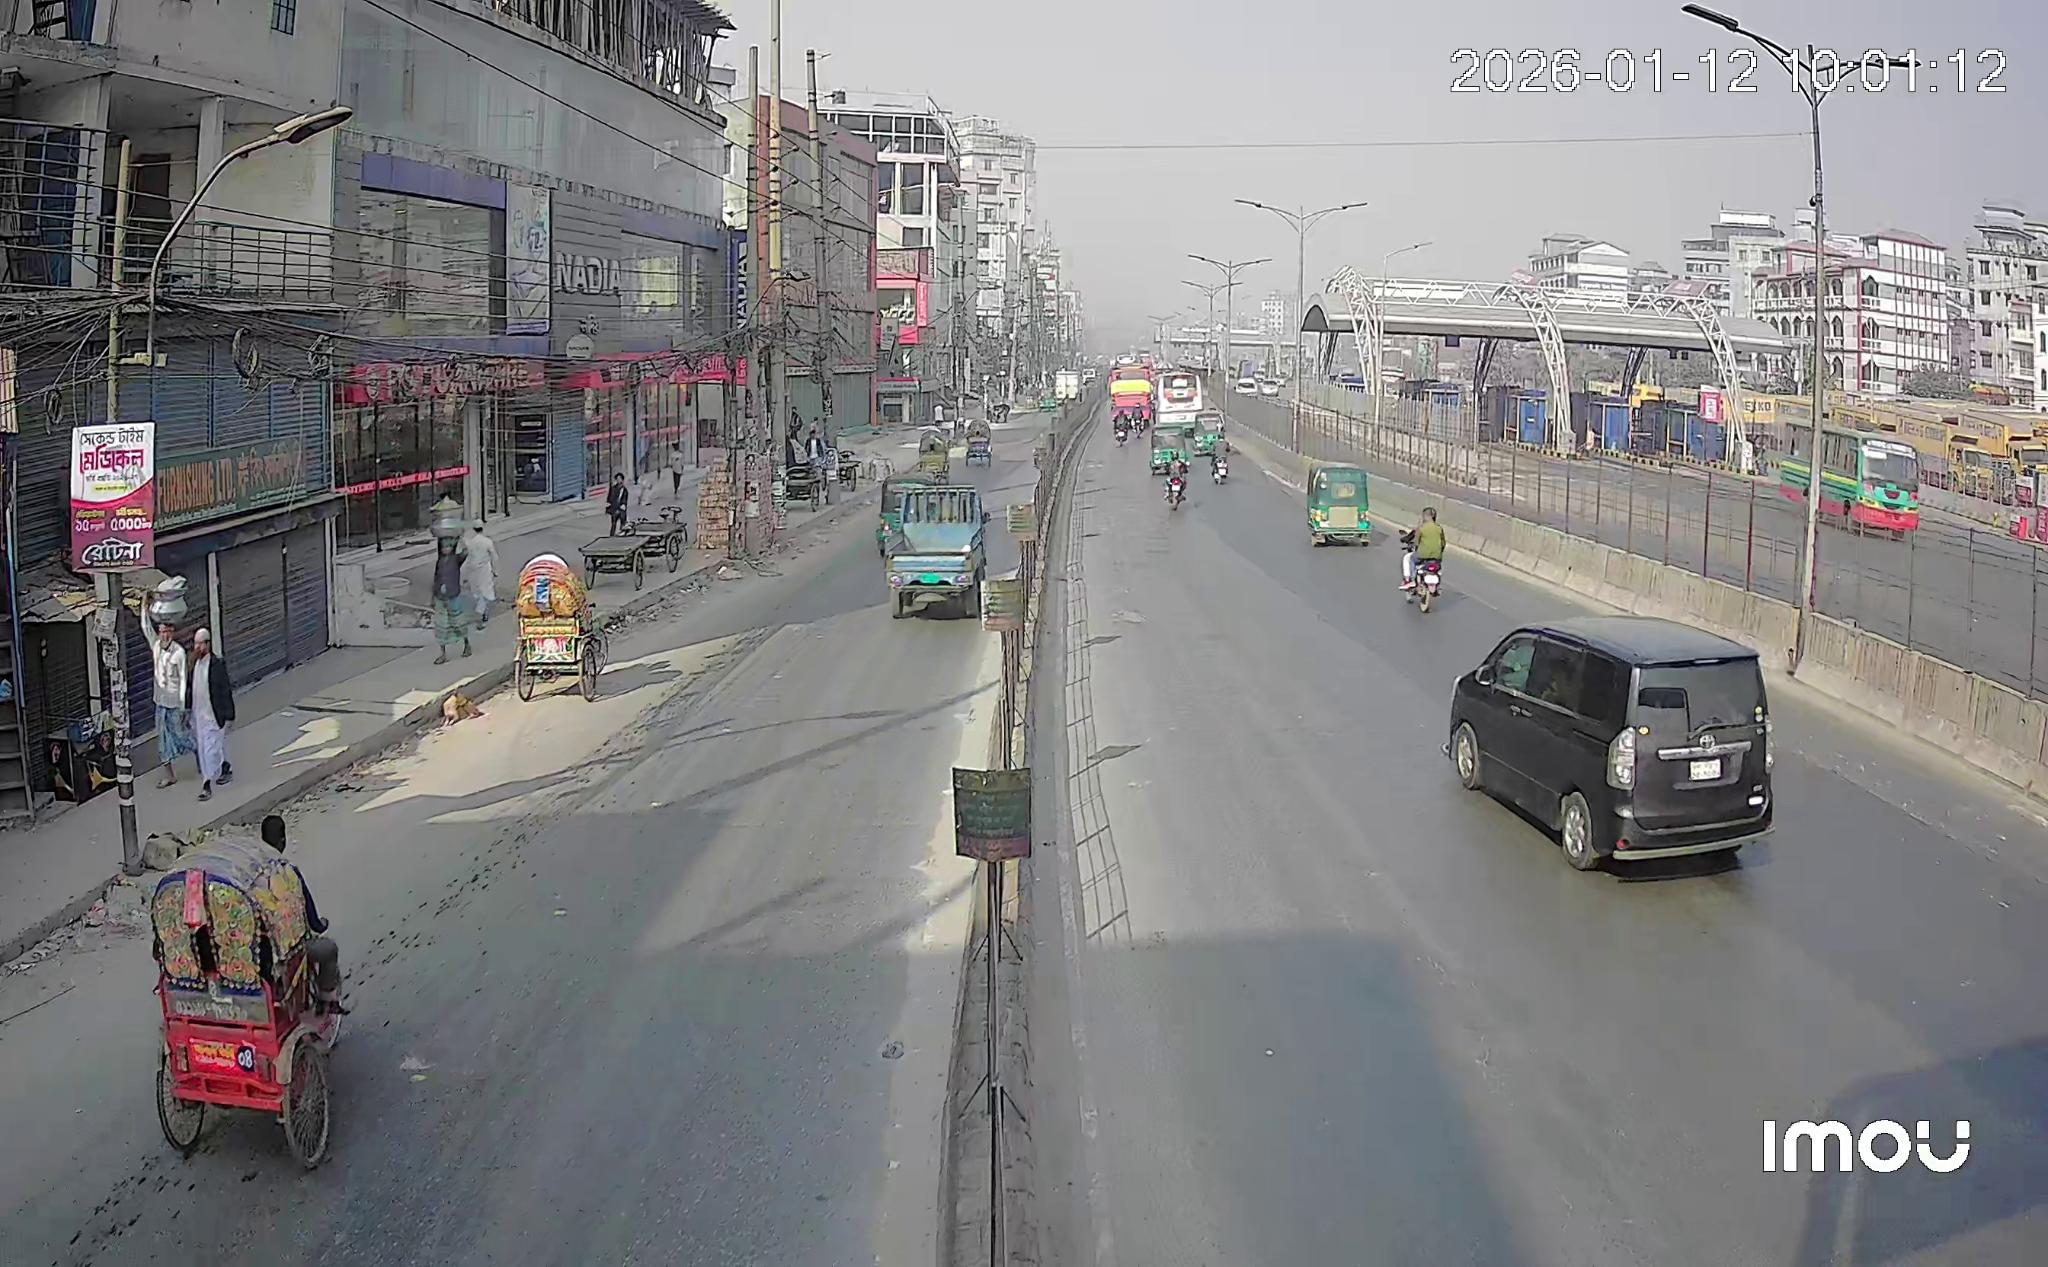Bus: (1818, 426, 1919, 540), (1779, 433, 1810, 500)
CNG-Tempo: (1147, 414, 1229, 474), (876, 475, 936, 549), (1324, 473, 1368, 533)
Cycle Rickshaw: (148, 837, 347, 1168), (509, 554, 609, 701)
Jeep-SUV: (1442, 616, 1777, 869)
Motorcycle: (1400, 508, 1447, 612), (1156, 456, 1189, 508), (1195, 440, 1229, 483)
Truck: (885, 481, 990, 617)
